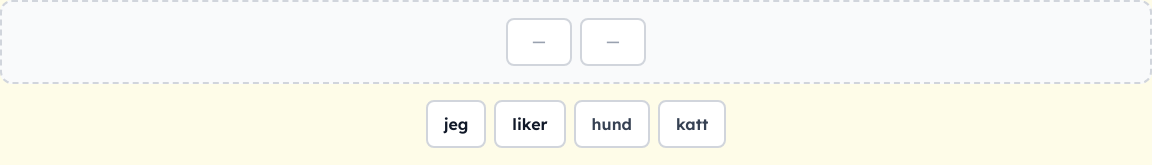
it: WordBankInput › selects word when clicked
Click the button "jeg" at (456, 124), box [426, 100, 486, 148]
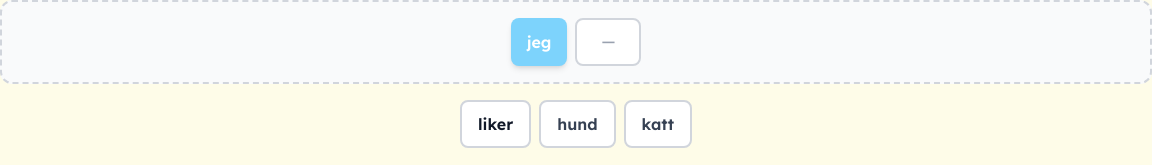
Check: the element named "sentence" shows "jeg", box [511, 18, 567, 66]
